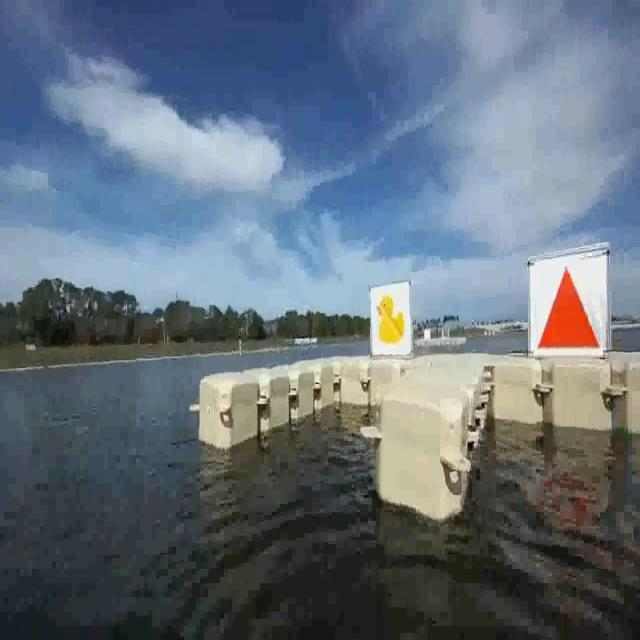red-dot: (532, 256, 604, 364)
yellow-duck: (376, 292, 405, 344)
